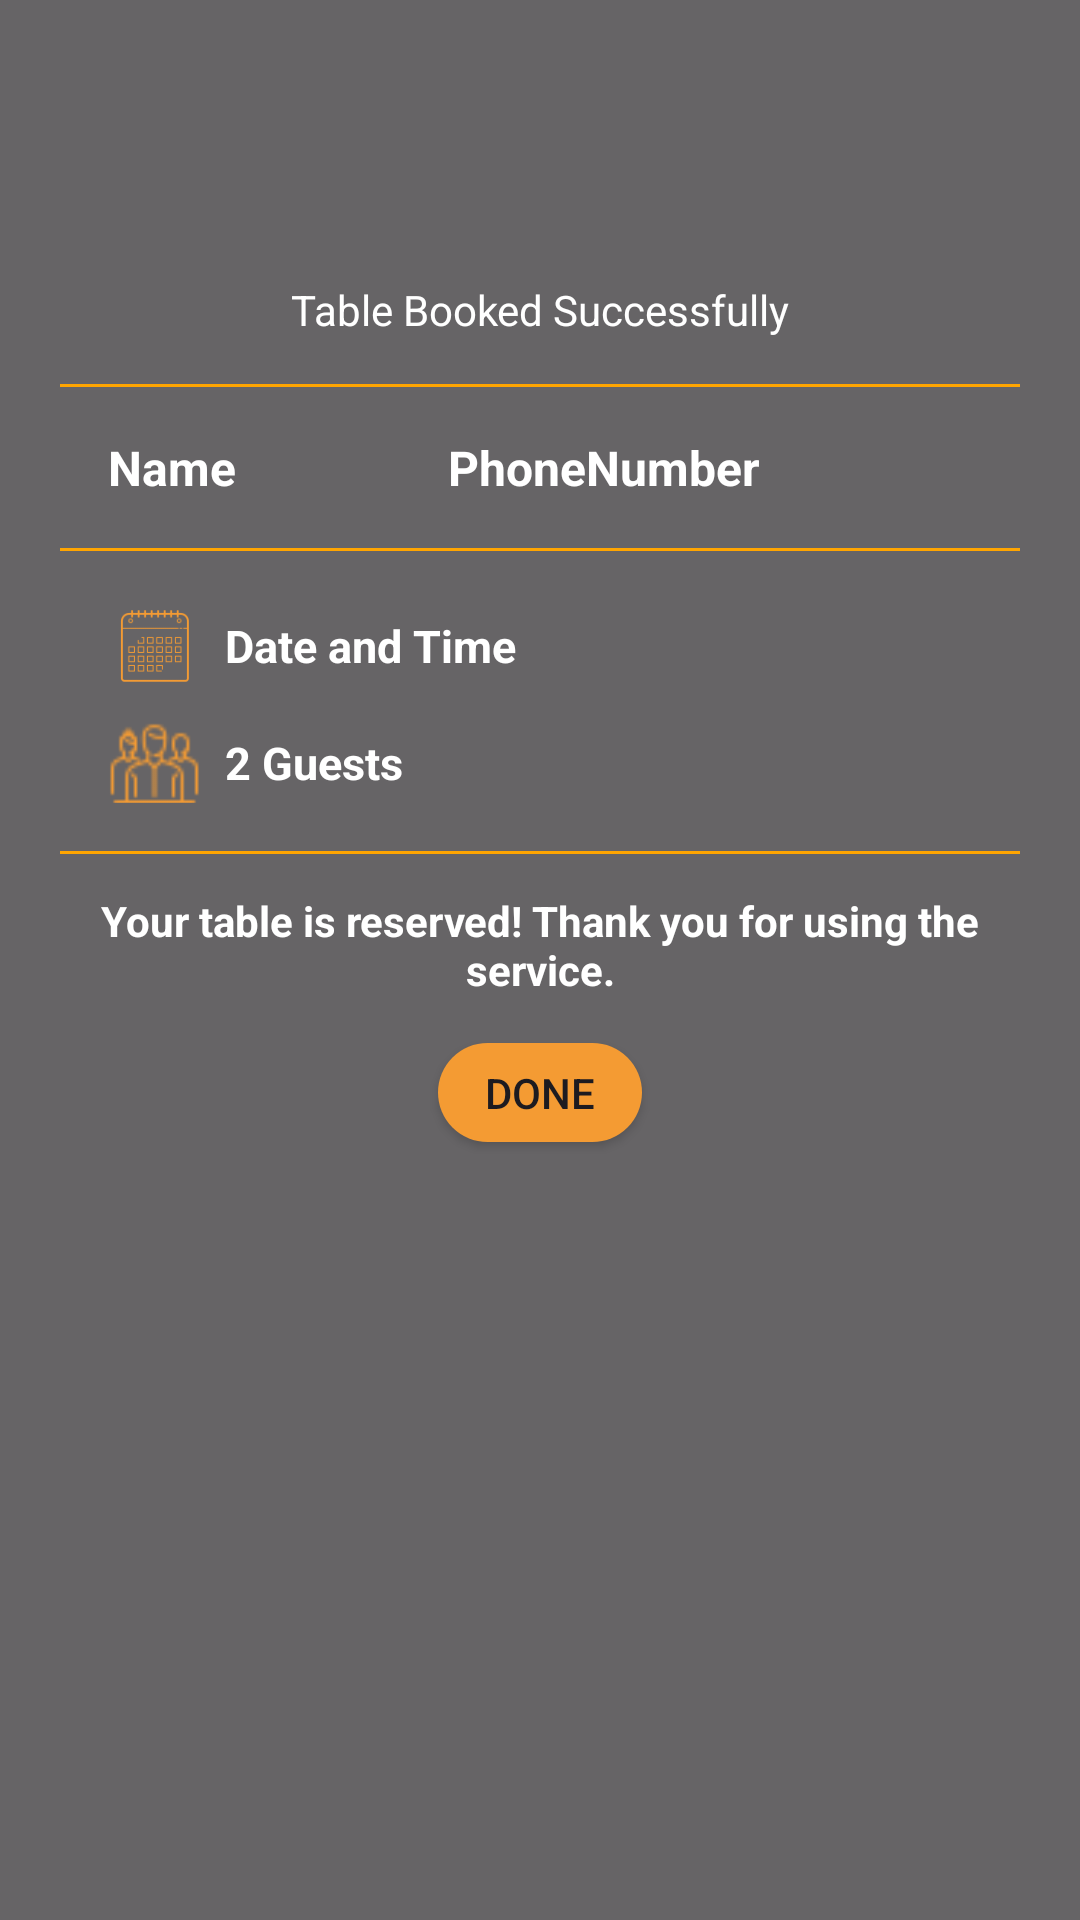

Point at icon controls on the screen. Image size 1080 × 1920, points as [x,y].
persons: [154,763]
